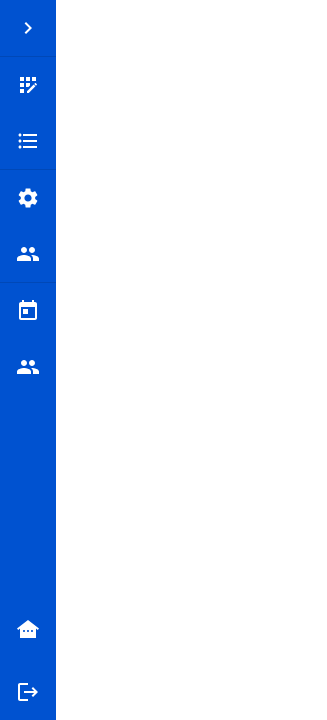
Test: Sidebar › toggles the sidebar when the arrow button is clicked
Click the icon with test id "ChevronRightIcon" at (28, 28), box [16, 16, 40, 40]
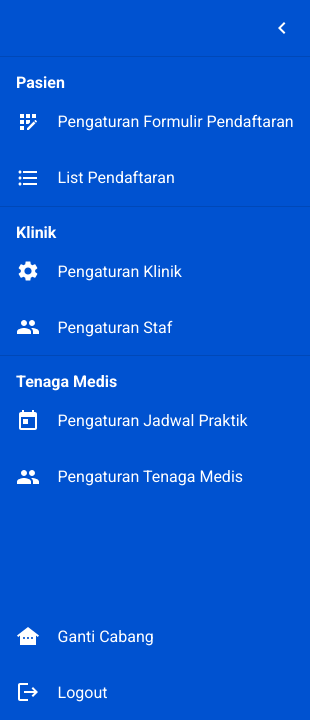
Expected: the icon with test id "ChevronLeftIcon" is shown
Click the icon with test id "ChevronLeftIcon" at (282, 28), box [270, 16, 294, 40]
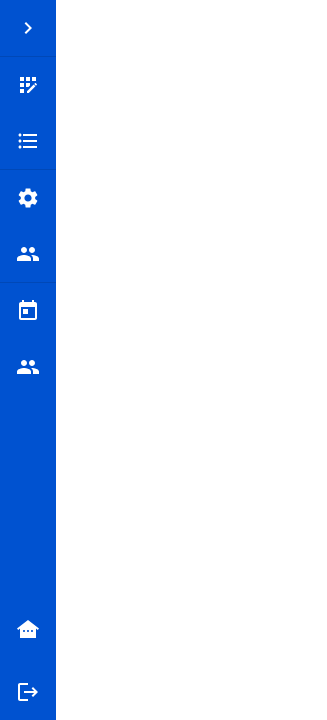
Expected: the icon with test id "ChevronRightIcon" is shown, [16, 16, 40, 40]
